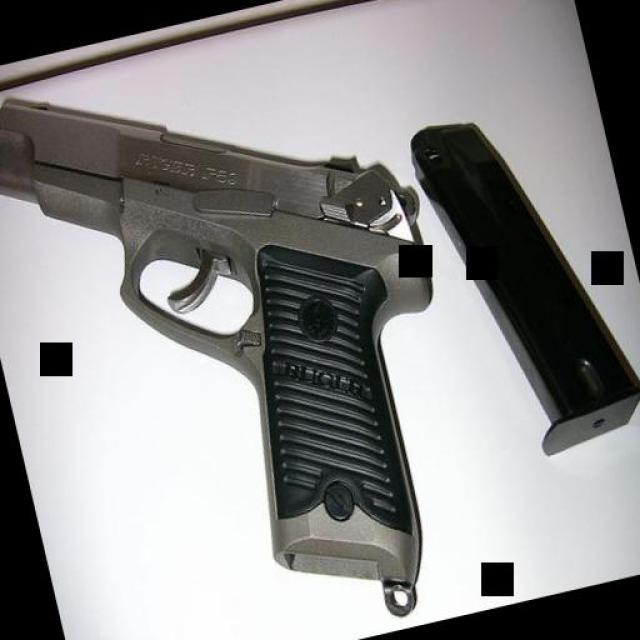gun: (0, 10, 498, 640)
